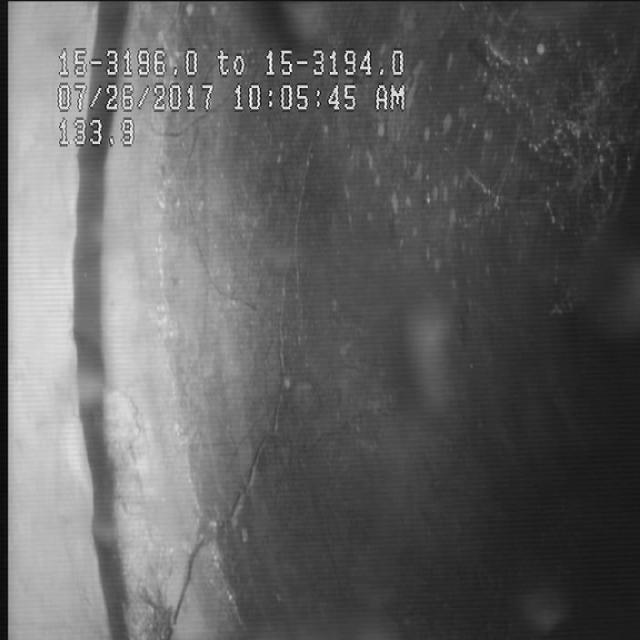Crack: (185, 349, 302, 594)
